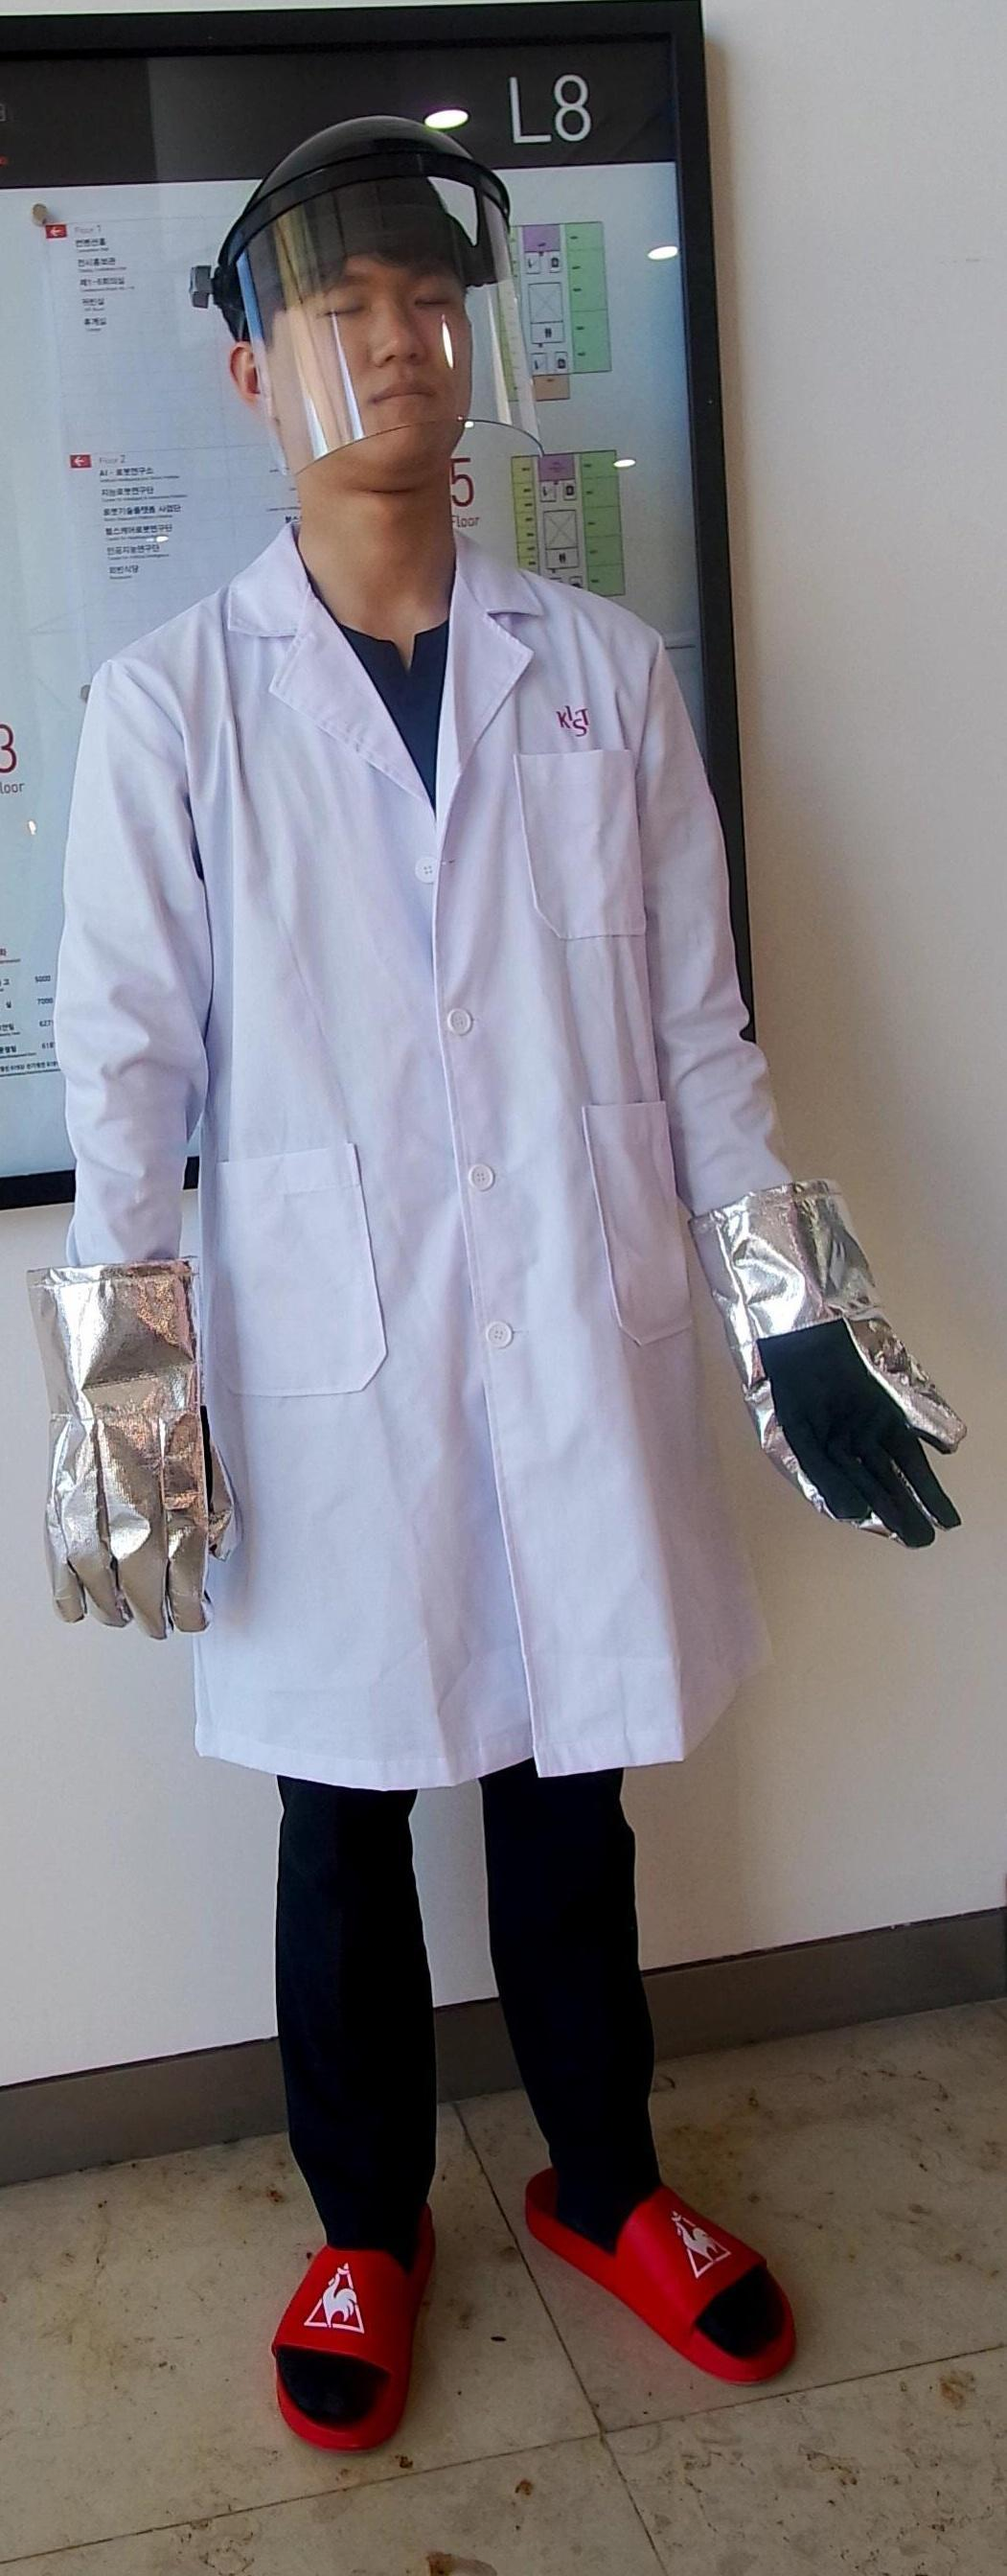lab_coat: (202, 624, 710, 1773)
